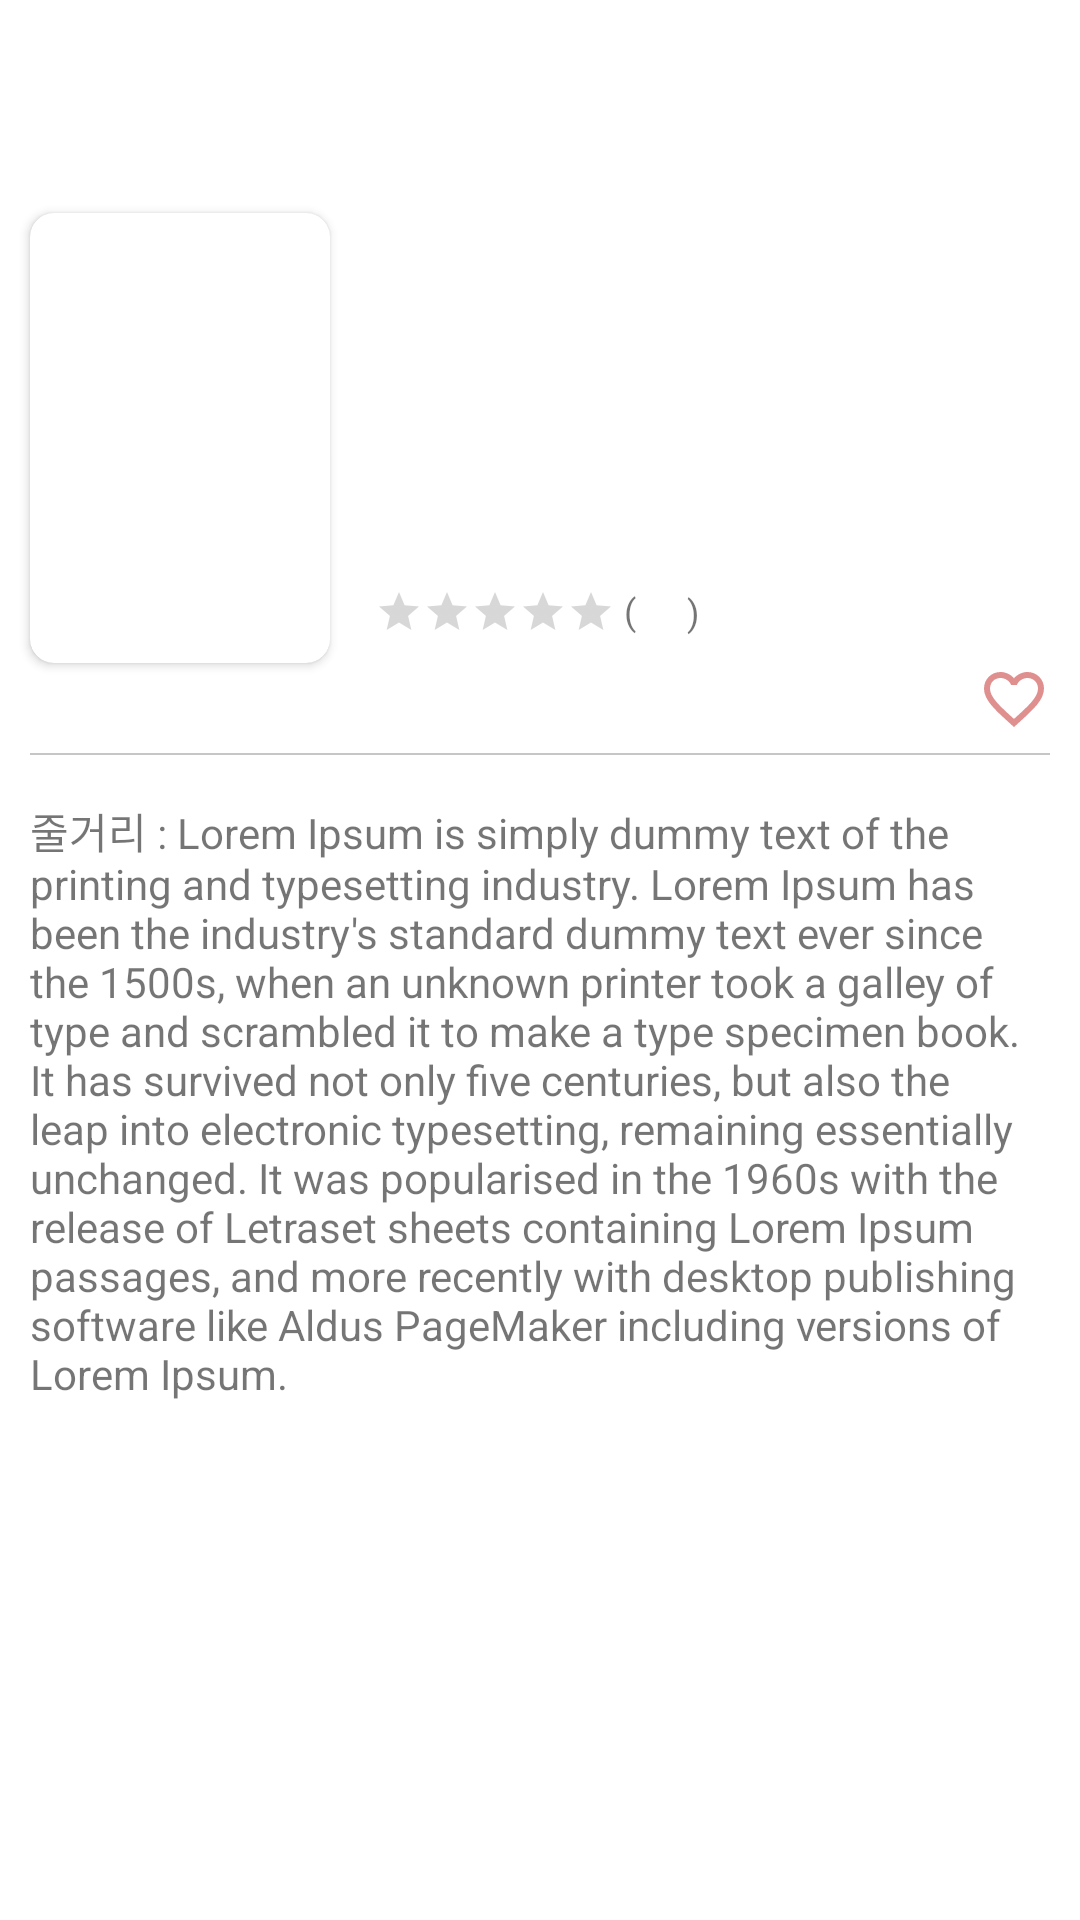

Locate icon controls on the screen. Image size 1080 x 1920, boxes as (x1, y1, x2, y2).
empty like: (984, 672, 1044, 727)
